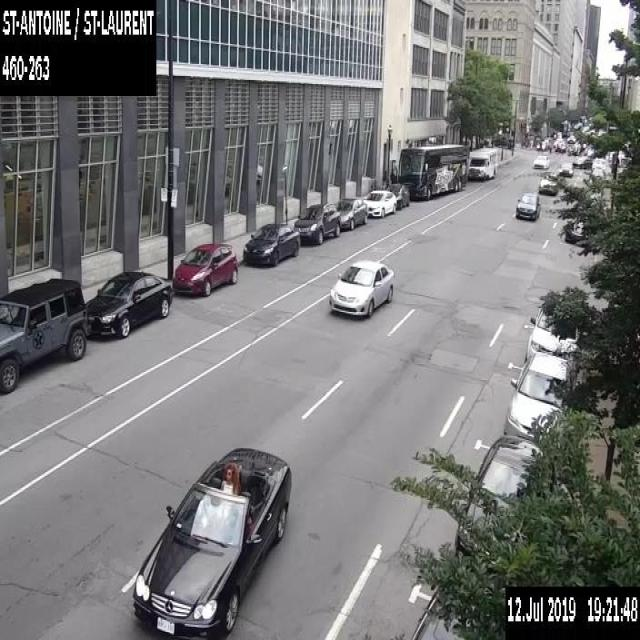bus: (398, 143, 466, 199)
pedestrian: (566, 143, 570, 154), (548, 140, 551, 152), (538, 138, 541, 150), (559, 142, 562, 153), (556, 141, 558, 152)
vehicle: (130, 445, 293, 639), (454, 435, 542, 559), (0, 276, 89, 397), (503, 352, 573, 448), (84, 268, 173, 338), (326, 256, 394, 319), (172, 242, 237, 297), (524, 305, 578, 369), (411, 589, 463, 639), (242, 222, 300, 266), (294, 202, 340, 244), (336, 196, 367, 228), (467, 147, 497, 179), (362, 189, 396, 216), (515, 191, 540, 220), (564, 215, 588, 242), (386, 182, 409, 210), (538, 171, 557, 194), (588, 167, 604, 185), (572, 155, 592, 168), (532, 154, 549, 168), (557, 161, 573, 175), (590, 157, 604, 170), (536, 140, 547, 149), (556, 140, 565, 151), (553, 136, 562, 146), (566, 134, 575, 142)
